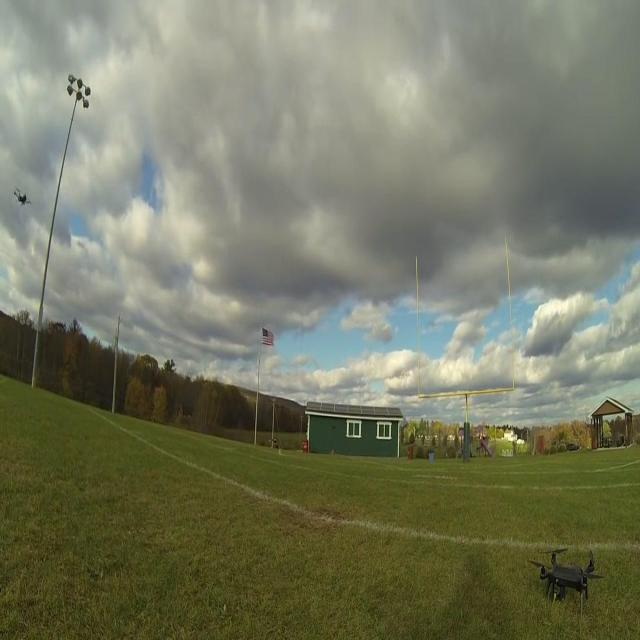drone: (530, 541, 605, 606)
